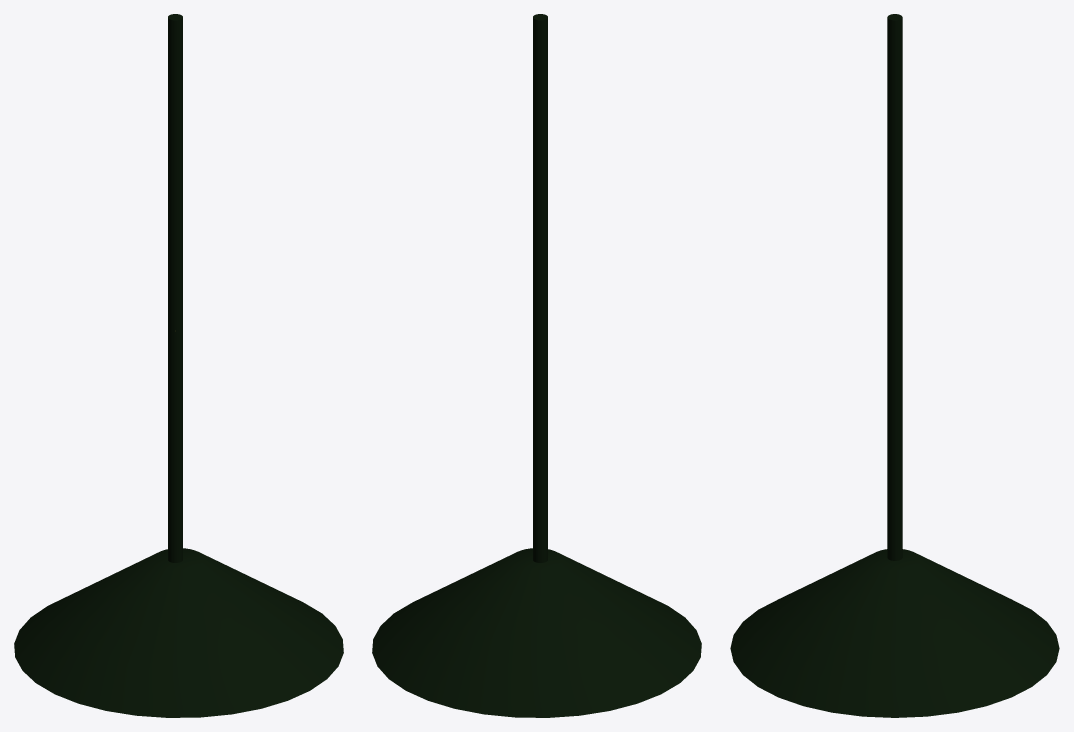
The model's file is light.glb.
The picture shows the model from 3 angles, left to right: view 1: azimuth 30°, elevation 25°; view 2: azimuth 150°, elevation 25°; view 3: azimuth 270°, elevation 25°; orthographic projection.
Visible parts, largest first — view 1: Chrome; view 2: Chrome; view 3: Chrome.
Boxes of the visible parts, x1,y1,x2,y2 form: Chrome: (14, 14, 343, 717); Chrome: (372, 14, 701, 717); Chrome: (730, 14, 1059, 717).
Size of the model in its own units: 17.14 by 36.16 by 17.14.
1 material, 1 textured.
